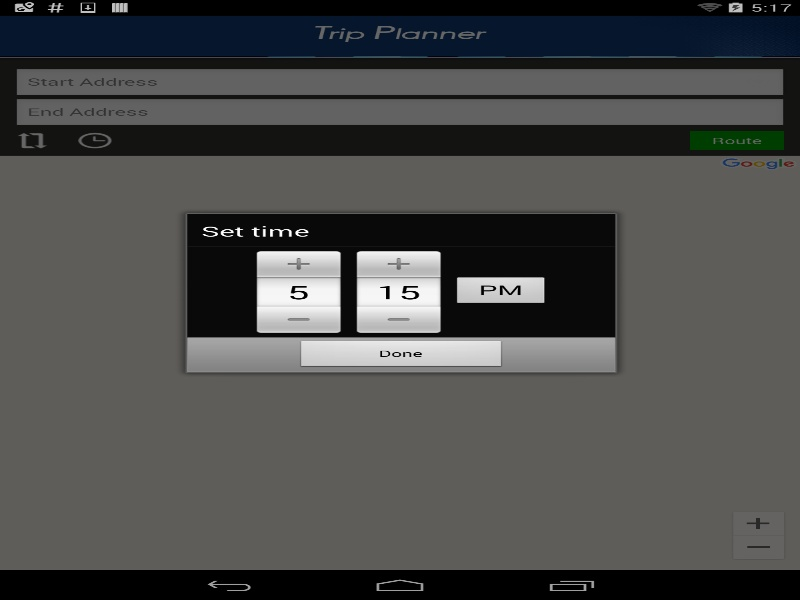Button: (296, 340, 506, 370), (451, 276, 550, 306), (252, 249, 345, 277), (252, 306, 345, 334), (352, 249, 445, 277), (352, 306, 445, 334)
Input: (252, 277, 345, 306), (352, 277, 445, 306)
